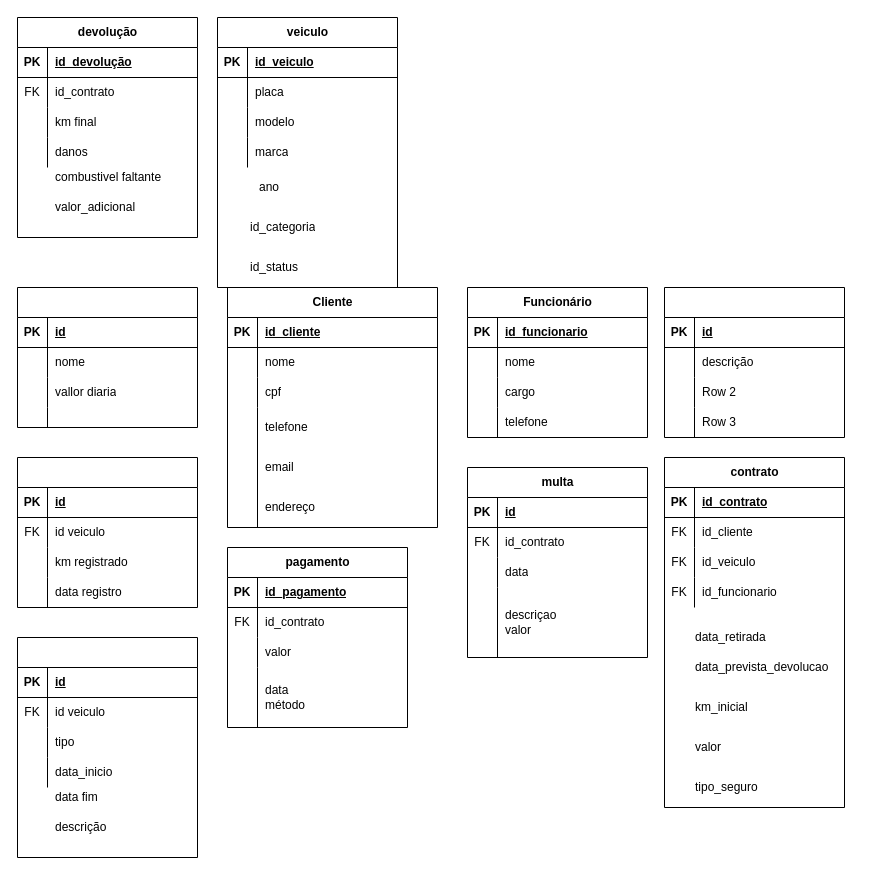
Some shapes in this 885 by 875 pixel diagram are drawn without their labels. The shapes that lost their labels are listed below. From the top down, each one's box as (x1, y1, x2, y2) in pixels, then its label:
(16, 286, 198, 428): categoria
(664, 286, 844, 438): status
(16, 456, 198, 608): hist quilometragem
(16, 636, 198, 858): manutenção
